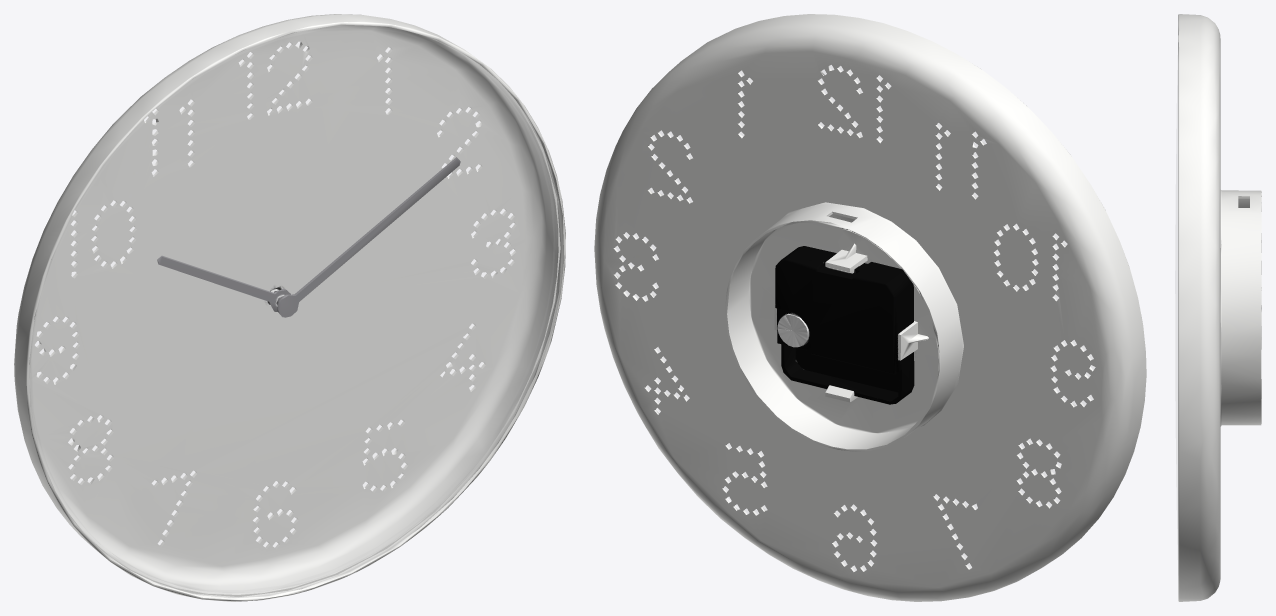
Rendered from tromma_zegar_scienny_30557078.glb.
3 renders of one model, left to right at view 1: azimuth 30°, elevation 25°; view 2: azimuth 150°, elevation 25°; view 3: azimuth 270°, elevation 25°, orthographic. The views are drawn at different scales.
Visible parts, largest first — view 1: tromma_zegar_scienny_30557078; view 2: tromma_zegar_scienny_30557078; view 3: tromma_zegar_scienny_30557078.
Part boxes in pixels (x1,y1,x2,y2): tromma_zegar_scienny_30557078: (14, 14, 565, 601); tromma_zegar_scienny_30557078: (594, 14, 1146, 601); tromma_zegar_scienny_30557078: (1175, 14, 1261, 601).
Size of the model in its own units: 0.2499 by 0.2499 by 0.0369.
2 materials, 1 textured.
